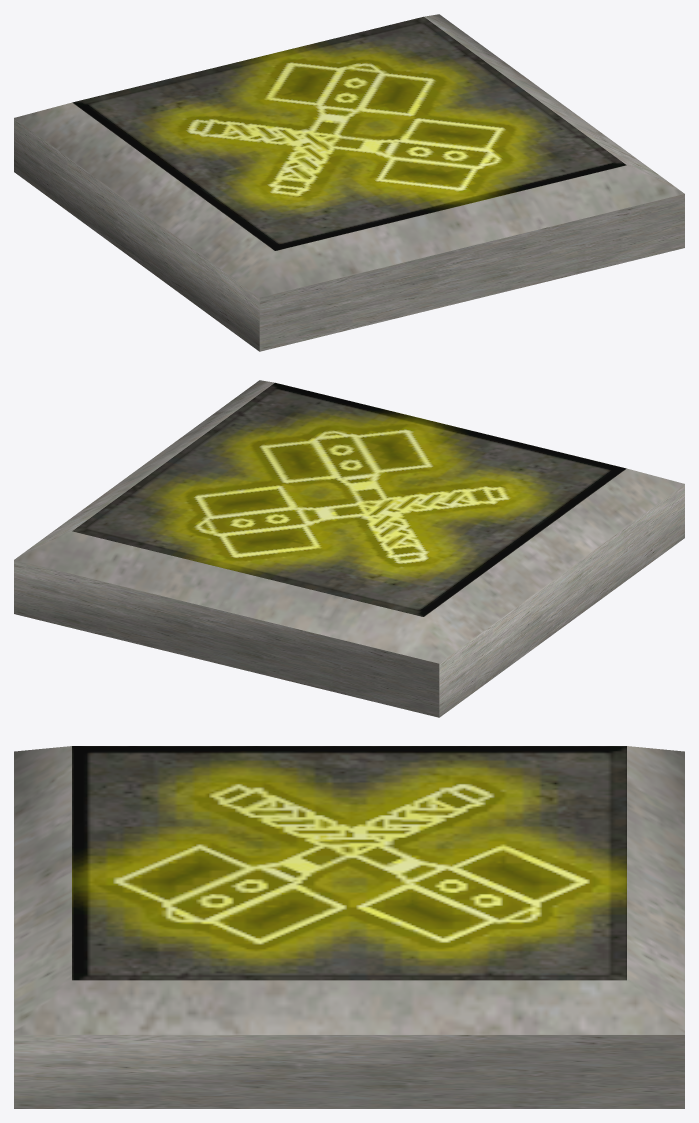
The model's file is FLOOR_RUIN_COOLER_FLOOR_RUIN_COOLER02.fbx.
3 renders of one model, top to bottom at view 1: azimuth 30°, elevation 25°; view 2: azimuth 150°, elevation 25°; view 3: azimuth 270°, elevation 25°, orthographic. The views are drawn at different scales.
Parts seen in each view (by area): view 1: FLOOR_RUIN_COOLER_FLOOR_RUIN_COOLER02; view 2: FLOOR_RUIN_COOLER_FLOOR_RUIN_COOLER02; view 3: FLOOR_RUIN_COOLER_FLOOR_RUIN_COOLER02.
Boxes of the visible parts, box(x1,y1,x2,y2) form: FLOOR_RUIN_COOLER_FLOOR_RUIN_COOLER02: box(14, 14, 684, 351); FLOOR_RUIN_COOLER_FLOOR_RUIN_COOLER02: box(14, 380, 684, 717); FLOOR_RUIN_COOLER_FLOOR_RUIN_COOLER02: box(14, 746, 684, 1108).
Bounding box in the file's own units: 15000 × 2565 × 15000.
2 materials, 2 textured.
